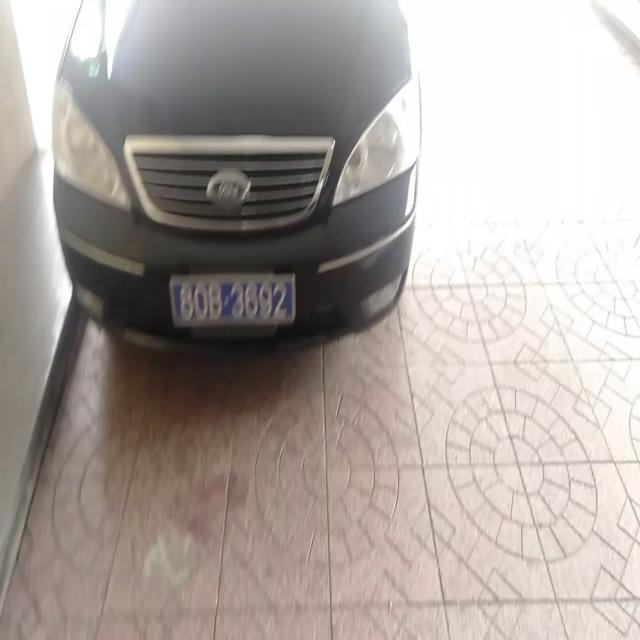bien_xanh: (170, 268, 297, 330)
